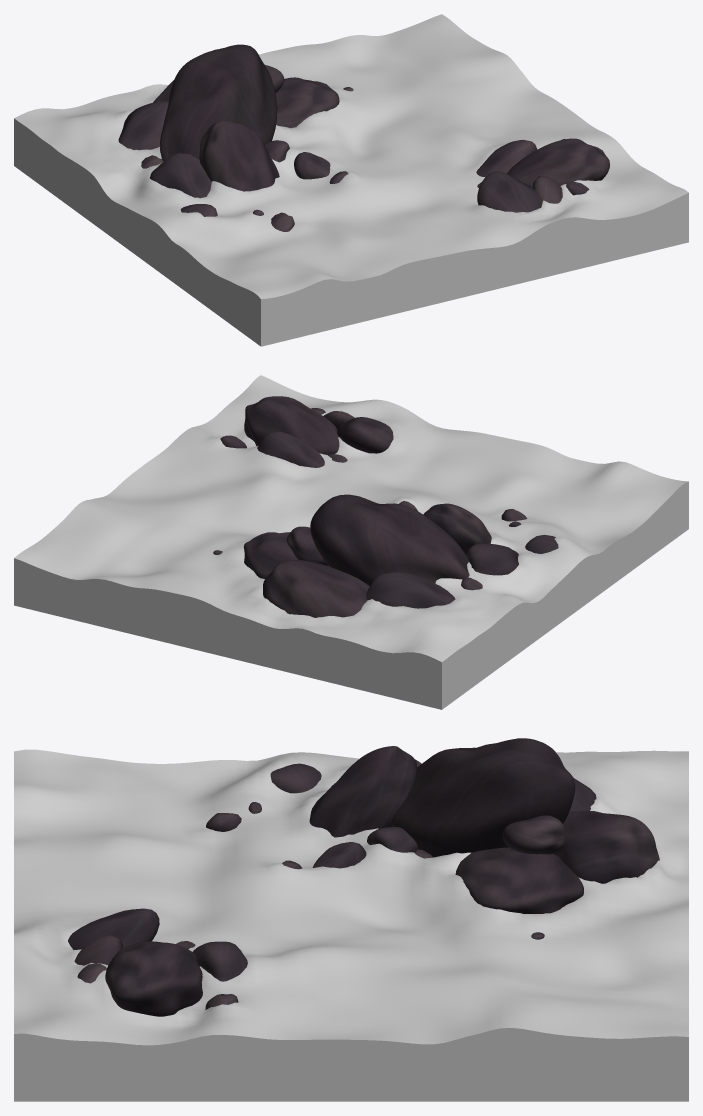
Rendered from floor.fbx.
3 views of the same model, one above another, from view 1: azimuth 30°, elevation 25°; view 2: azimuth 150°, elevation 25°; view 3: azimuth 270°, elevation 25° (orthographic). The views are drawn at different scales.
Visible parts, largest first — view 1: floor; view 2: floor; view 3: floor.
Boxes of the visible parts, x1=… form: floor: x1=14, y1=14, x2=688, y2=346; floor: x1=14, y1=375, x2=688, y2=709; floor: x1=14, y1=738, x2=688, y2=1101.
Size of the model in its own units: 5000 by 1396 by 5000.
